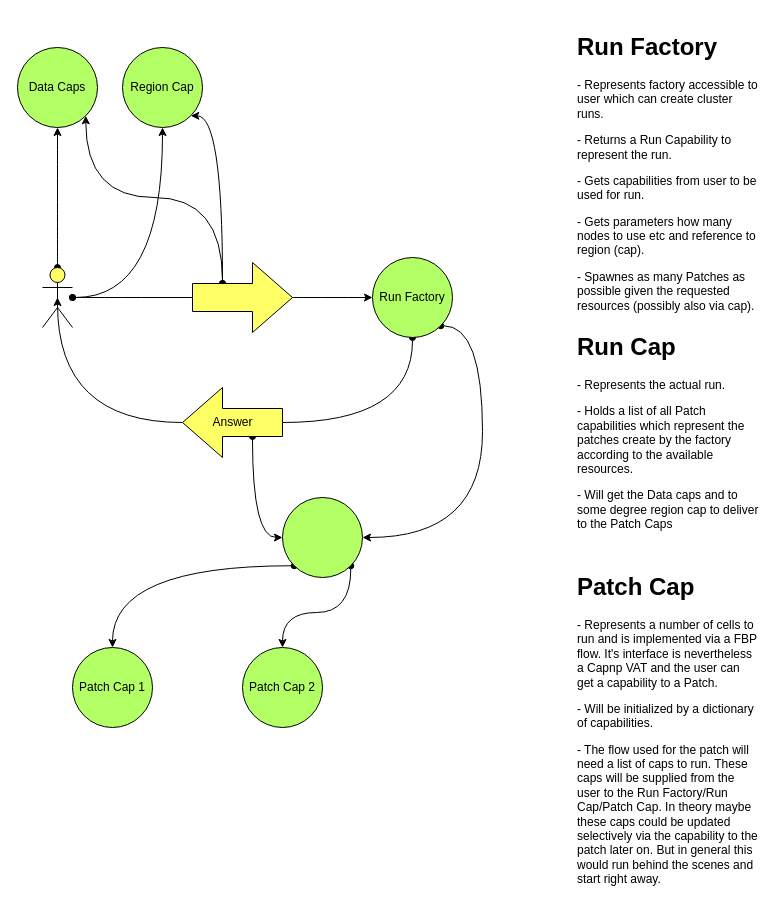
This 780x904 diagram has some shape labels left out. The centre of each missing label's shape, as x and y in pixels:
"CreateRun" belongs at (x=242, y=297).
"Run Cap" belongs at (x=322, y=537).
"User" belongs at (x=57, y=297).
